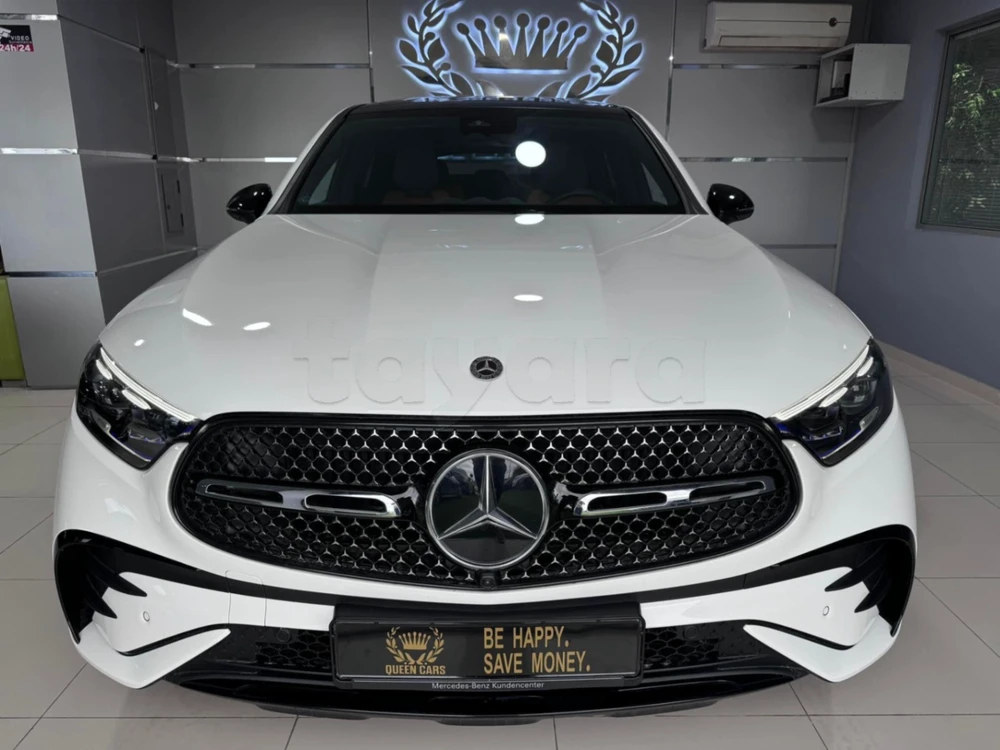mercedes: (47, 97, 929, 726)
